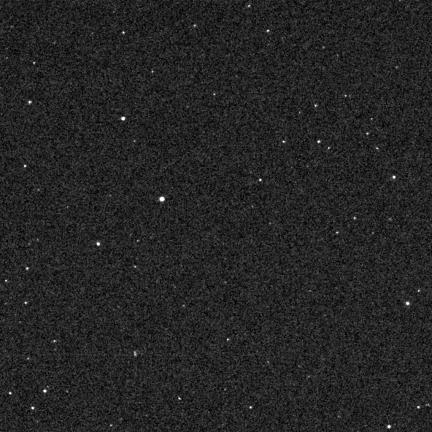blob: (160, 197, 164, 202), (318, 140, 322, 144), (392, 176, 396, 180), (26, 268, 30, 271), (32, 407, 35, 411), (122, 117, 125, 121), (97, 242, 100, 246), (9, 392, 12, 395), (24, 165, 27, 168), (406, 302, 409, 305), (29, 101, 32, 104), (315, 104, 318, 107), (44, 389, 46, 393), (260, 179, 262, 182)
